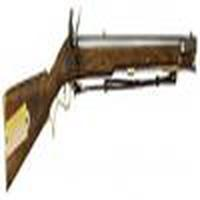gun: (2, 33, 200, 188)
